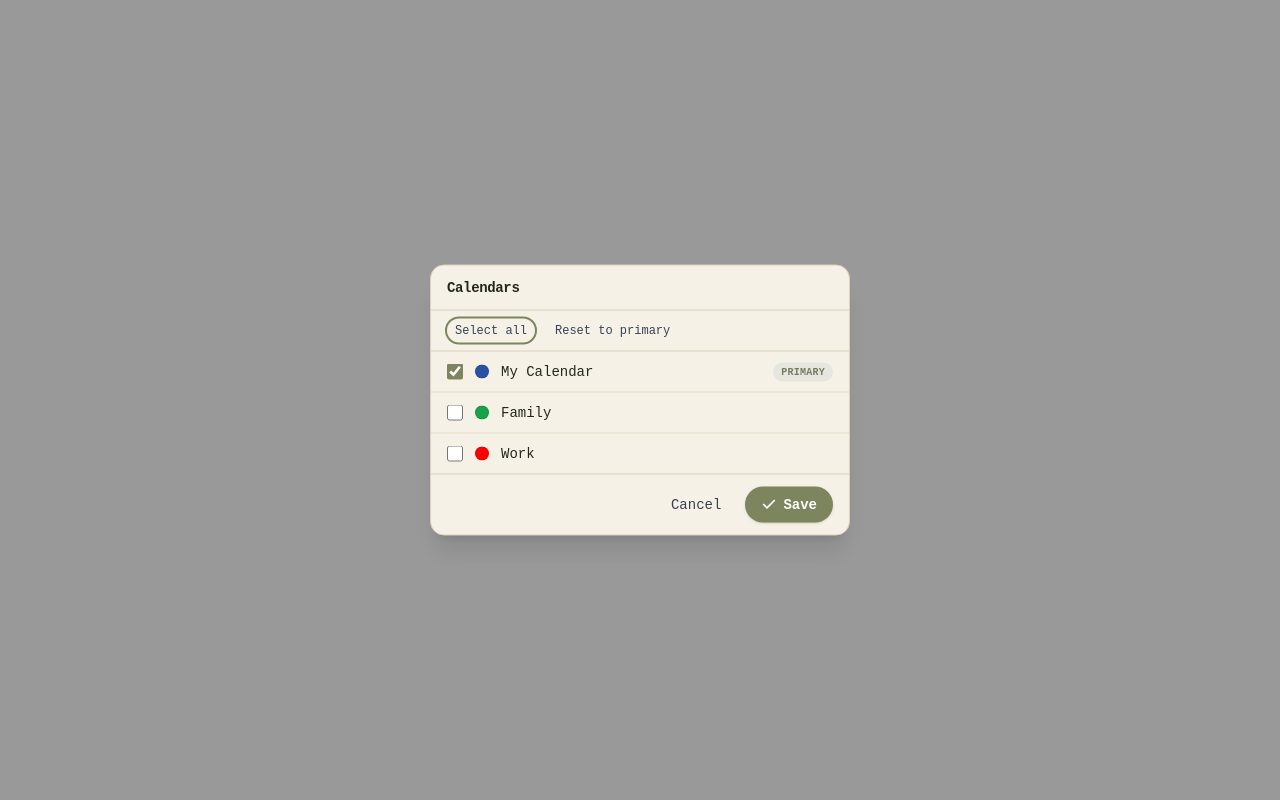
SourceCalendarPicker › disables Save when the draft would select zero calendars (minimum-one)
Expected: the button "Save" is enabled, [745, 486, 833, 522]
Click the checkbox labelled "My Calendar Primary".
click(455, 372)  # box [447, 364, 463, 380]
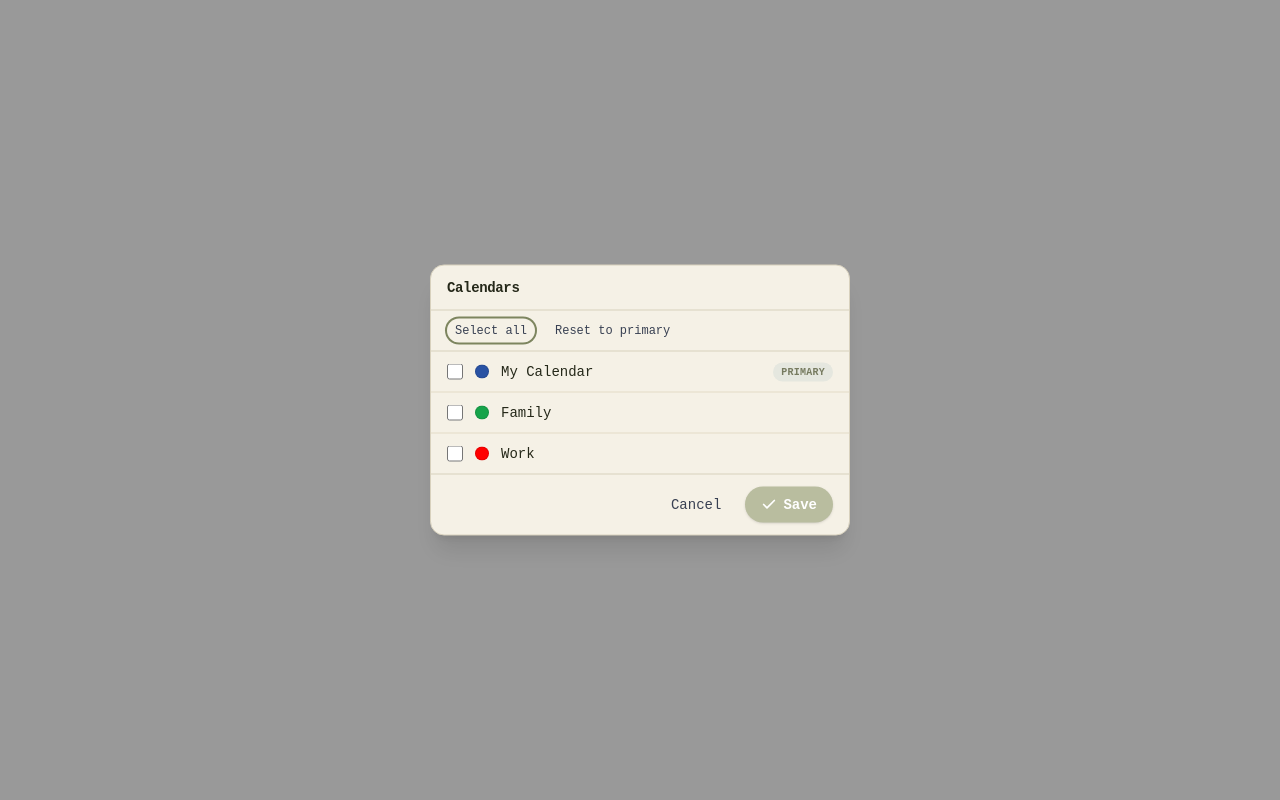
Expected: the button "Save" is disabled, [745, 486, 833, 522]
